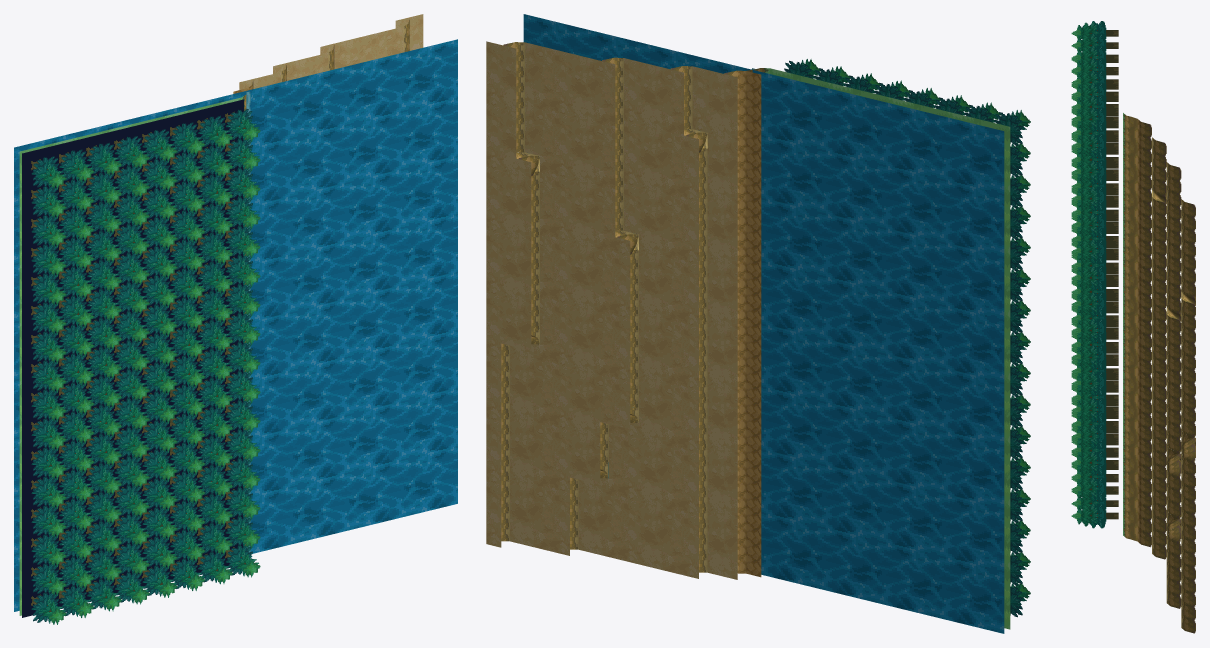
The model's file is HGRT-OW-v1_42_14.obj.
The picture shows the model from 3 angles, left to right: view 1: azimuth 30°, elevation 25°; view 2: azimuth 150°, elevation 25°; view 3: azimuth 270°, elevation 25°; orthographic projection. The views are drawn at different scales.
Parts seen in each view (by area): view 1: map; view 2: map; view 3: map.
Part boxes in pixels (x1,y1,x2,y2): map: [14, 14, 457, 624]; map: [486, 14, 1030, 633]; map: [1071, 21, 1195, 633].
Bounding box in the file's own units: 32 × 32 × 8.62.
15 materials, 15 textured.
